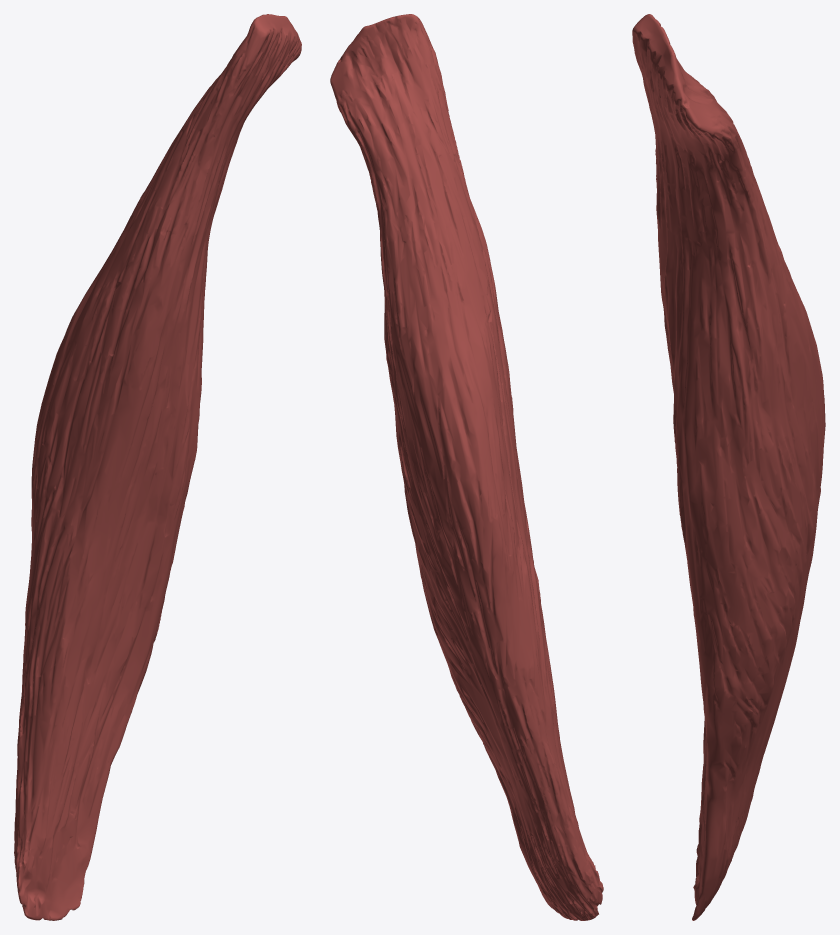
Rendered from FMA37699.glb.
3 renders of one model, left to right at view 1: azimuth 30°, elevation 25°; view 2: azimuth 150°, elevation 25°; view 3: azimuth 270°, elevation 25°, orthographic. The views are drawn at different scales.
Visible parts, largest first — view 1: FMA37699; view 2: FMA37699; view 3: FMA37699.
Boxes of the visible parts, x1=… form: FMA37699: x1=14, y1=14, x2=301, y2=920; FMA37699: x1=330, y1=14, x2=603, y2=920; FMA37699: x1=632, y1=14, x2=825, y2=920.
Bounding box in the file's own units: 0.0888 × 0.2635 × 0.0459.
